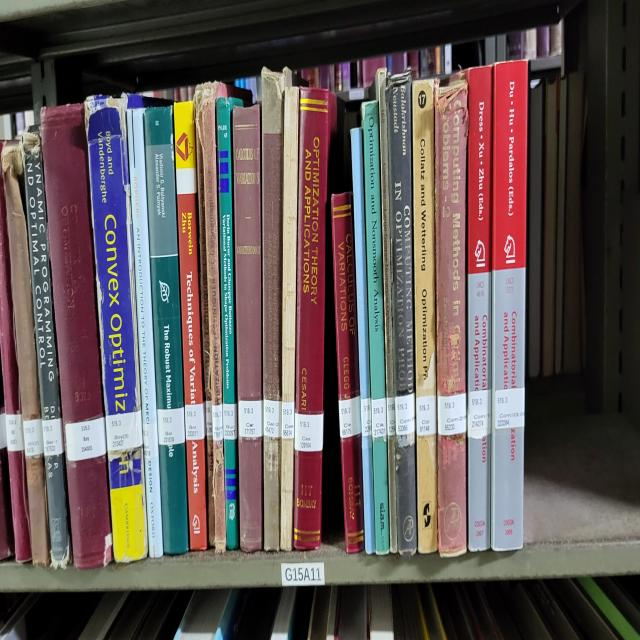Book: (41, 103, 112, 568), (85, 95, 148, 563), (142, 106, 189, 555), (22, 130, 70, 565), (1, 146, 50, 565), (491, 62, 528, 552), (126, 95, 164, 557), (294, 89, 331, 549), (435, 76, 469, 557), (194, 81, 228, 552), (386, 73, 418, 555), (174, 103, 208, 549), (261, 68, 291, 552), (232, 106, 262, 552), (362, 100, 390, 555), (412, 78, 438, 552), (331, 192, 365, 552), (468, 68, 492, 552), (216, 97, 241, 549), (375, 68, 398, 552), (350, 127, 375, 555), (195, 106, 215, 547), (280, 87, 299, 549), (0, 154, 20, 414)
Label: (65, 417, 106, 463), (106, 411, 142, 452), (495, 387, 525, 430), (438, 392, 466, 436), (295, 411, 324, 452), (158, 406, 185, 446), (468, 390, 490, 438), (339, 395, 361, 438), (395, 392, 415, 436), (239, 400, 262, 438), (22, 419, 44, 457), (416, 395, 436, 436), (42, 417, 62, 457), (185, 403, 205, 441), (6, 414, 24, 452), (264, 398, 281, 438), (222, 403, 238, 441), (371, 398, 386, 438), (142, 422, 159, 457), (281, 400, 295, 438), (211, 403, 224, 441), (360, 398, 371, 436), (386, 398, 395, 436), (205, 400, 212, 438)
